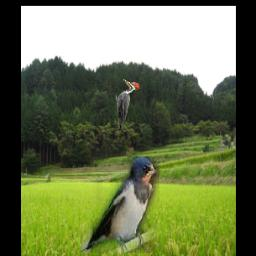Swallow: (81, 157, 159, 254)
Woodpecker: (116, 78, 139, 129)
